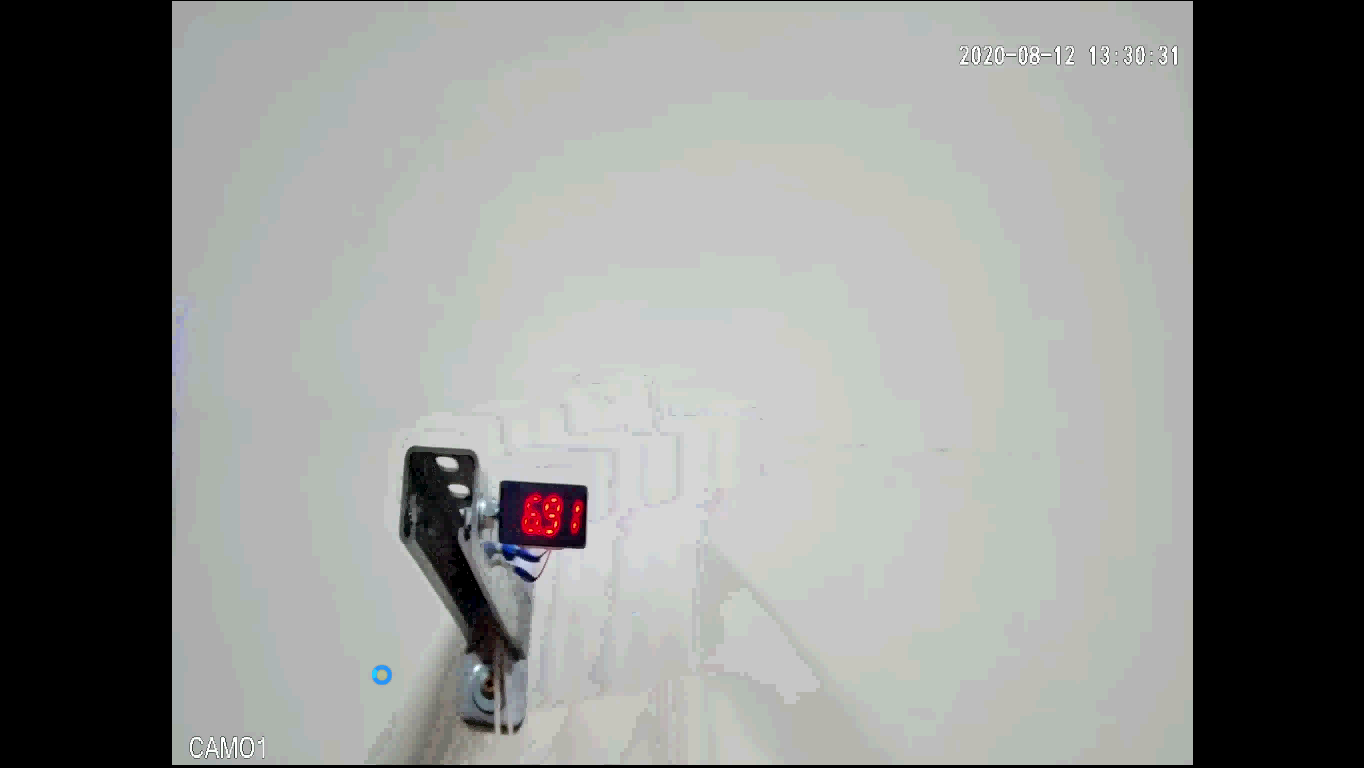one: (568, 494, 584, 538)
